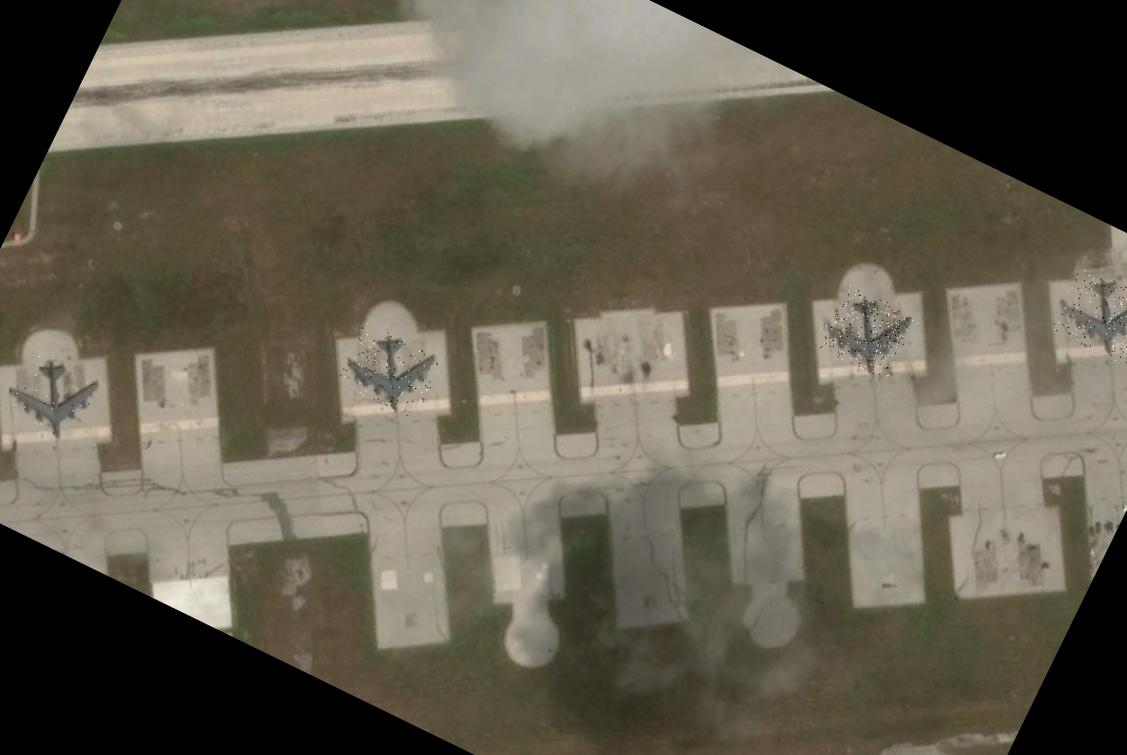A8: (335, 320, 444, 421), (0, 347, 104, 445), (819, 284, 917, 381), (1050, 263, 1127, 365)
